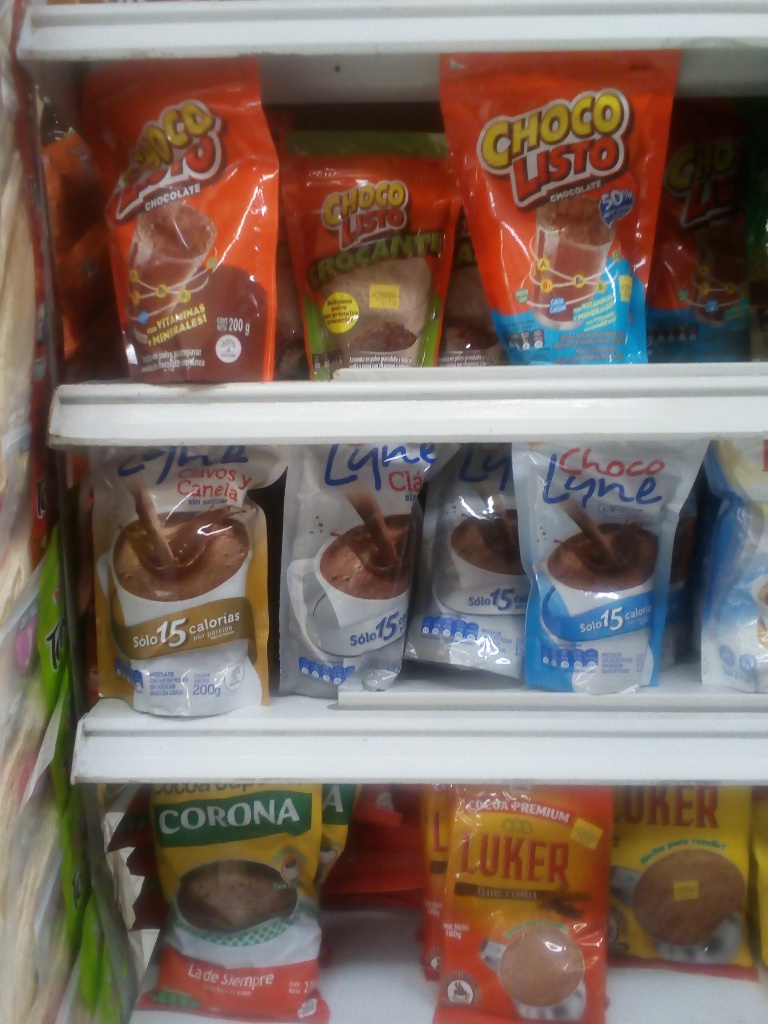COL0170102DYP10000: (277, 128, 455, 367)
COL0170103DYP20000: (71, 58, 283, 383)
COL0170104DYP20000: (438, 52, 678, 366)
